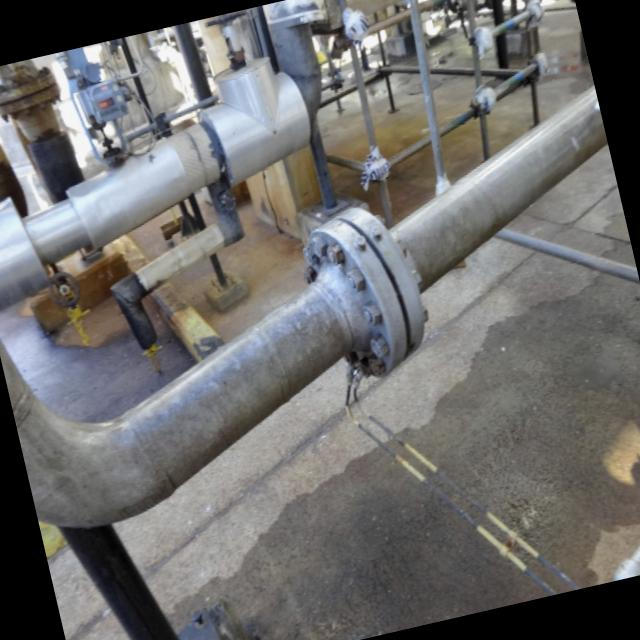gas: (0, 89, 608, 526)
